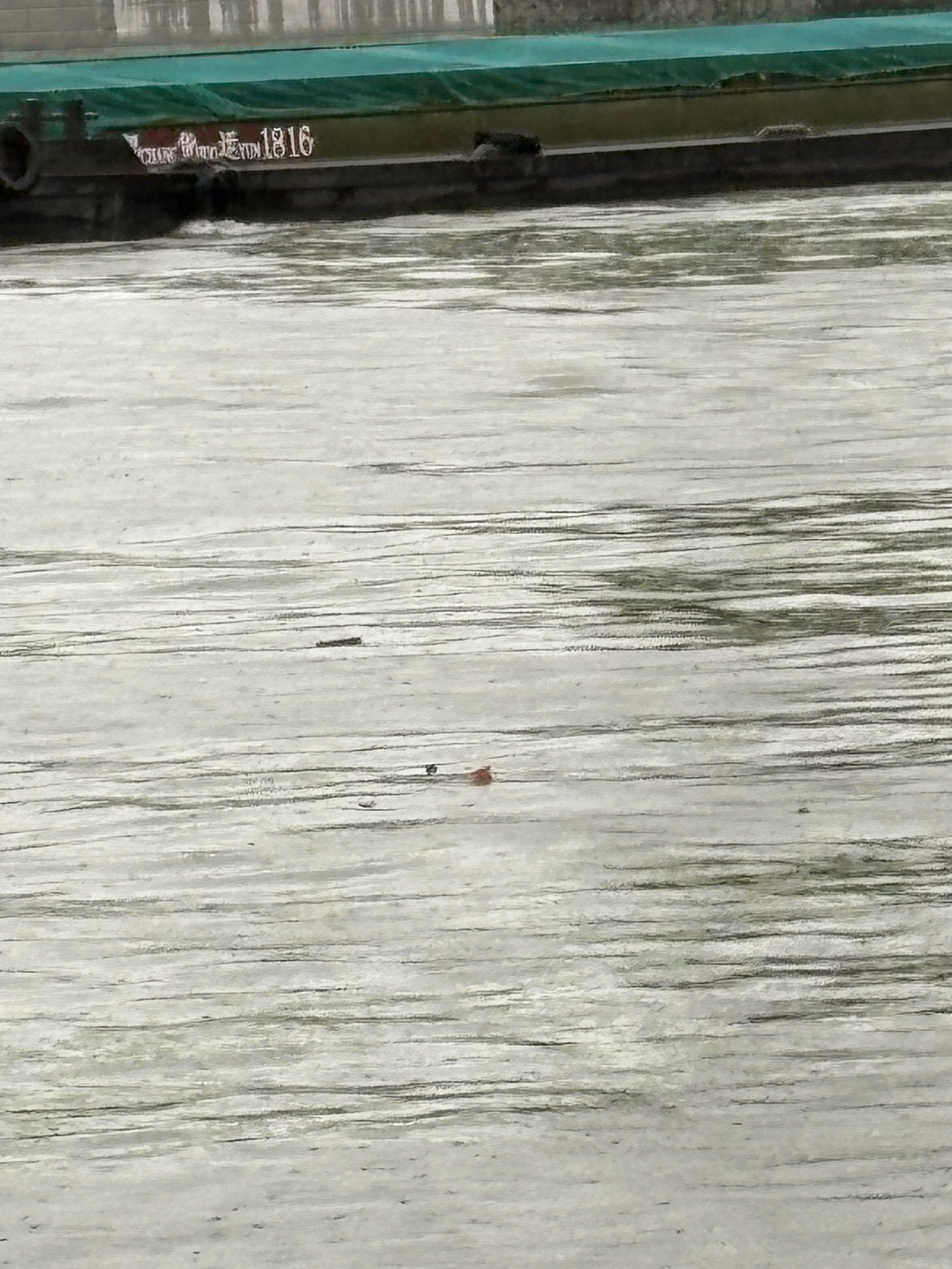Natural wastes: (472, 784, 491, 850), (567, 605, 590, 650), (570, 684, 584, 707)
